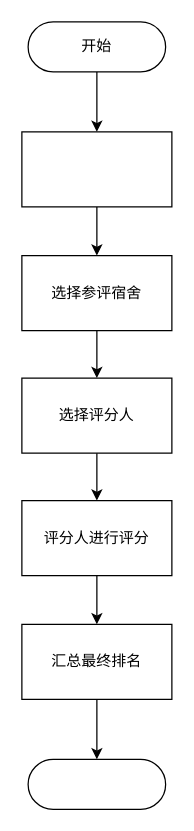
Some shapes in this 194 by 831 pixel diagram are drawn without their labels. Here are the shapes that lost their labels. From the top down, the centre of each, then its label:
the point at 96,169: 新建宿舍评比任务
the point at 96,783: 结束
